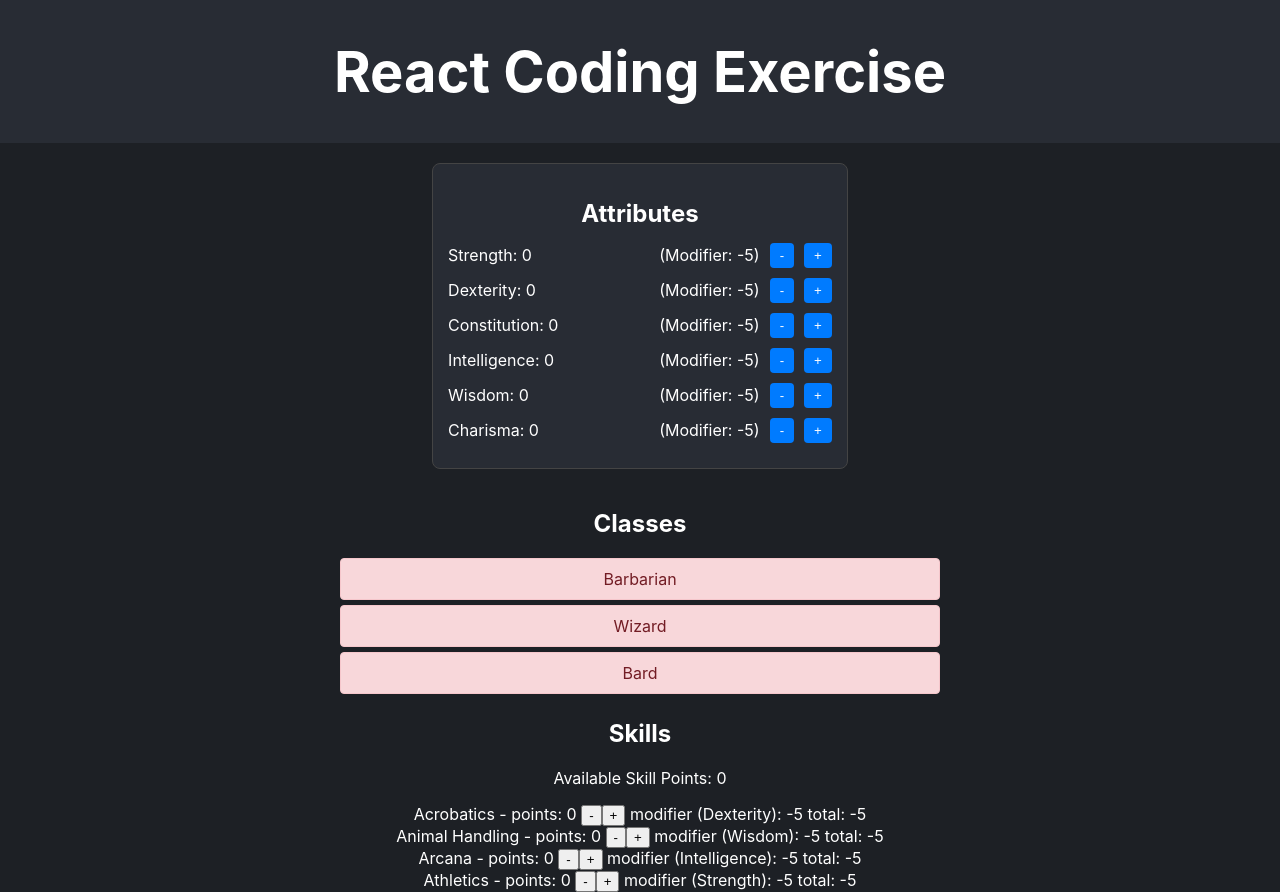
Test case: calculates and displays ability modifiers
This screenshot has width=1280, height=892.
Step 1. Click the 1st button "+" → click(818, 255), box [804, 243, 832, 268]
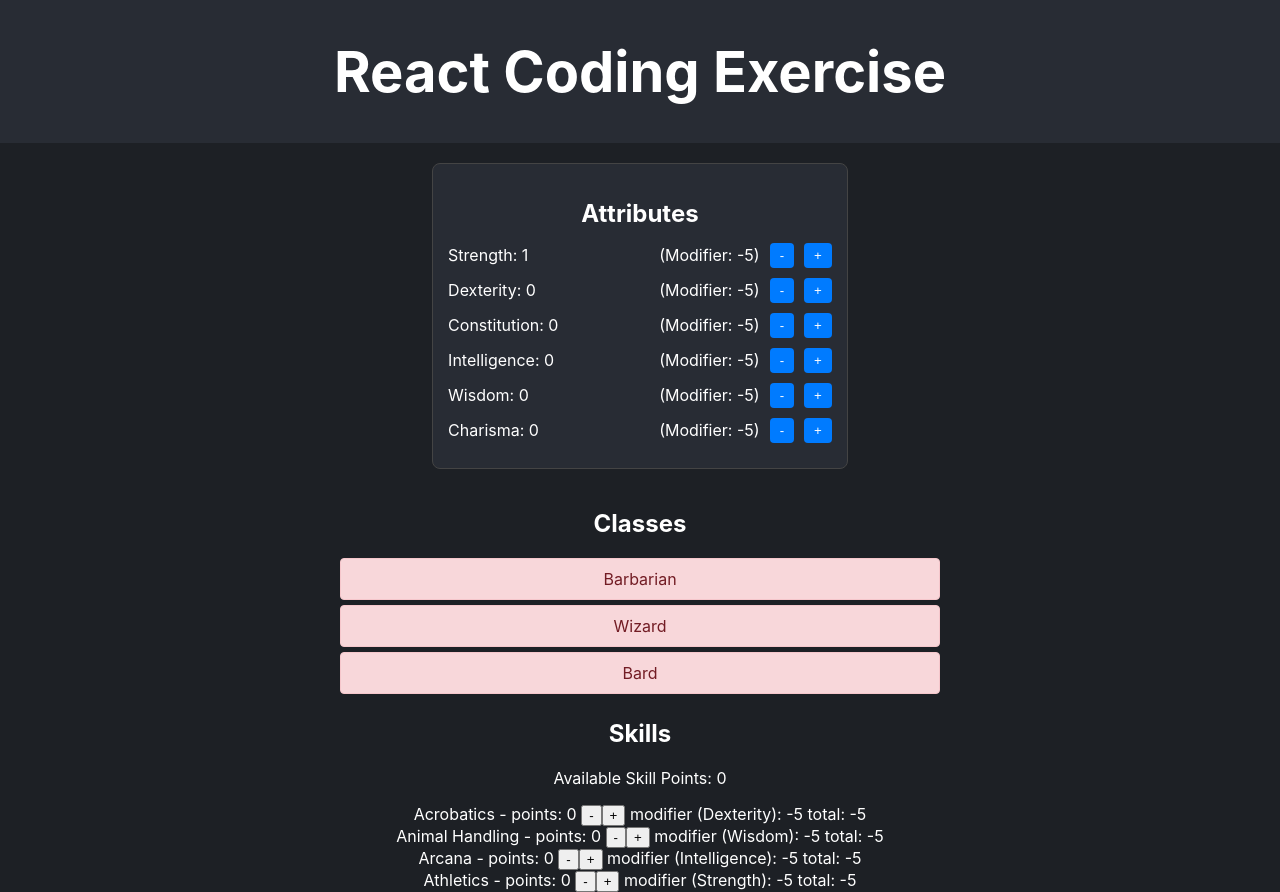
Step 2. Click the 1st button "+" → click(818, 255), box [804, 243, 832, 268]
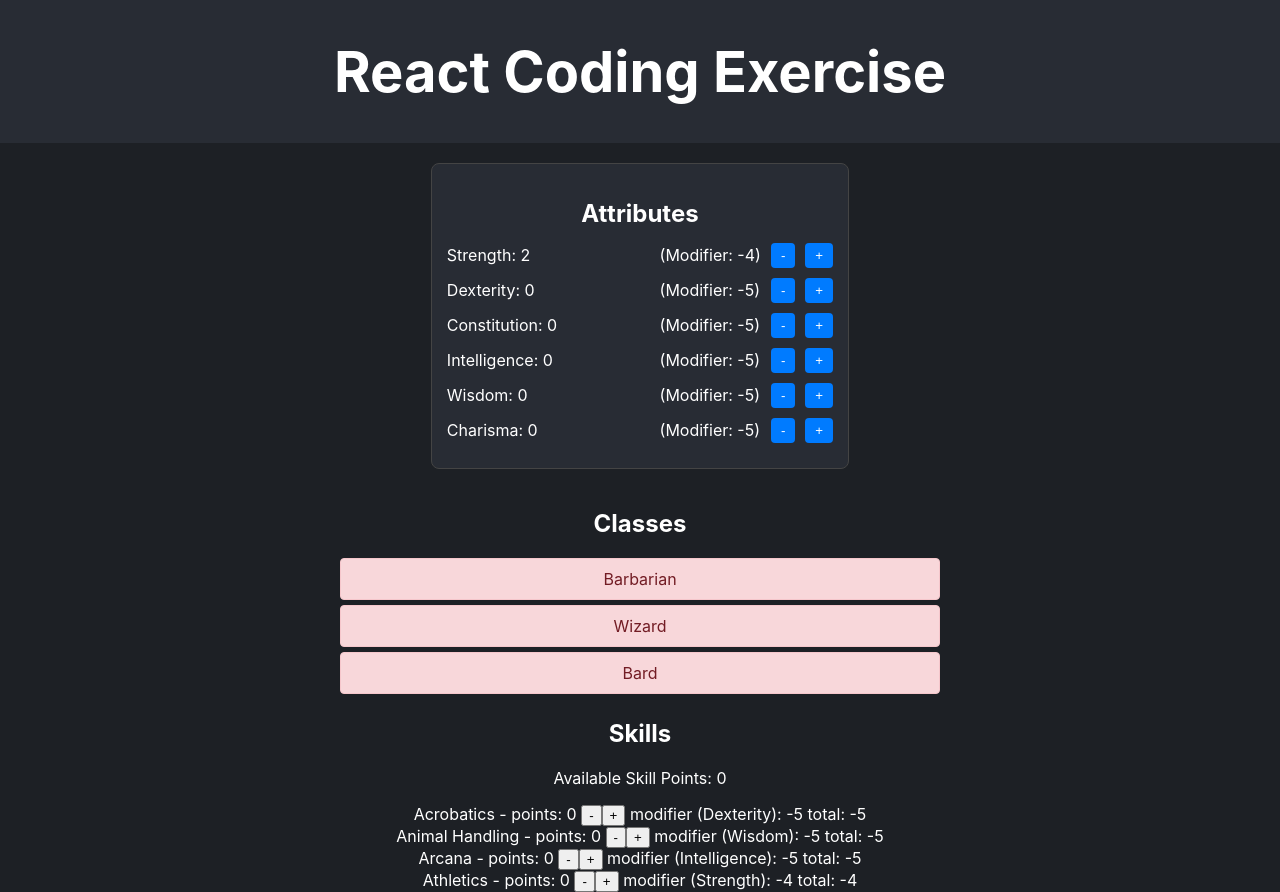
Expected: the text "(Modifier: -4)" is shown, [660, 245, 761, 265]
